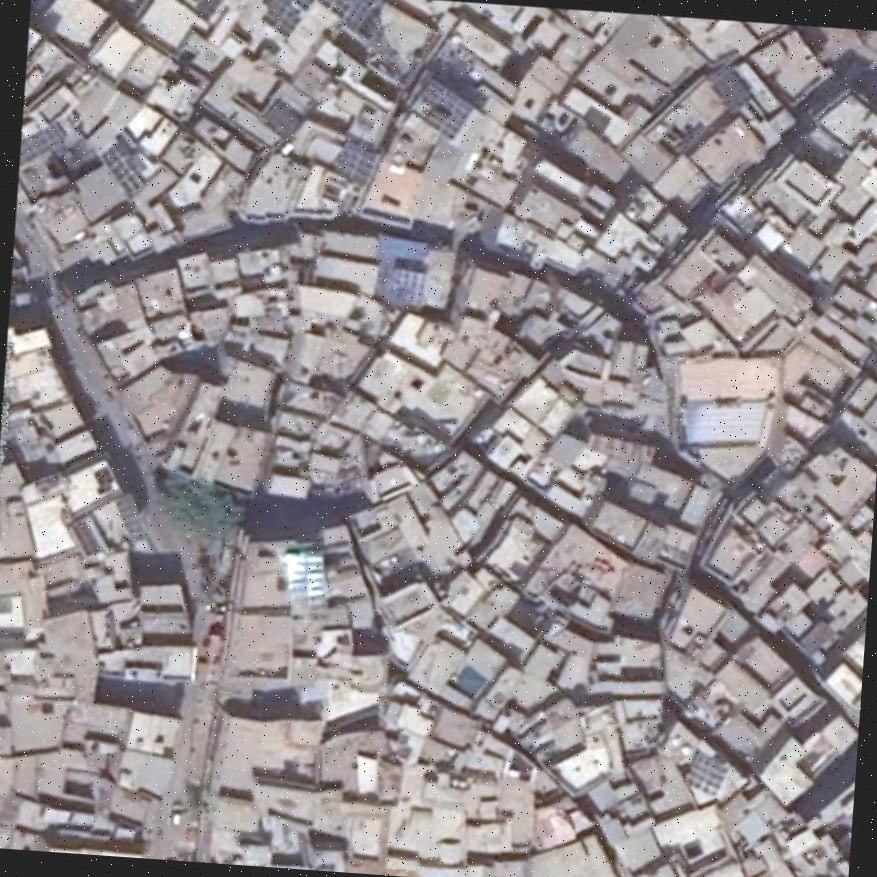Solarpanel: (411, 79, 471, 137), (101, 145, 144, 195), (19, 122, 64, 167), (334, 137, 375, 185), (682, 750, 725, 794), (257, 0, 310, 35), (320, 0, 371, 27)
